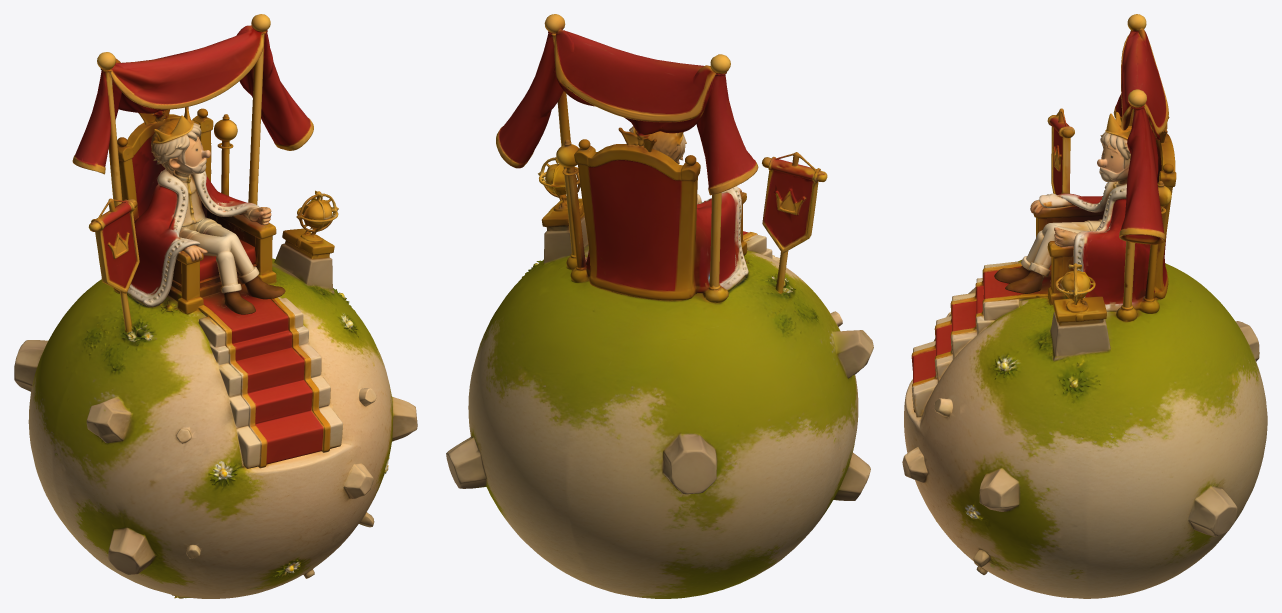
File: king.glb
3 views of the same model, side by side, from view 1: azimuth 30°, elevation 25°; view 2: azimuth 150°, elevation 25°; view 3: azimuth 270°, elevation 25° (orthographic). The views are drawn at different scales.
Visible parts, largest first — view 1: node_0; view 2: node_0; view 3: node_0.
Part boxes in pixels (x1,y1,x2,y2): node_0: (14, 14, 417, 598); node_0: (446, 14, 873, 598); node_0: (902, 14, 1267, 598).
Size of the model in its own units: 0.7152 by 1.12 by 0.7044.
Materials: 1 (1 with a texture image).
